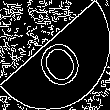O_NW: (25, 22, 85, 88)
